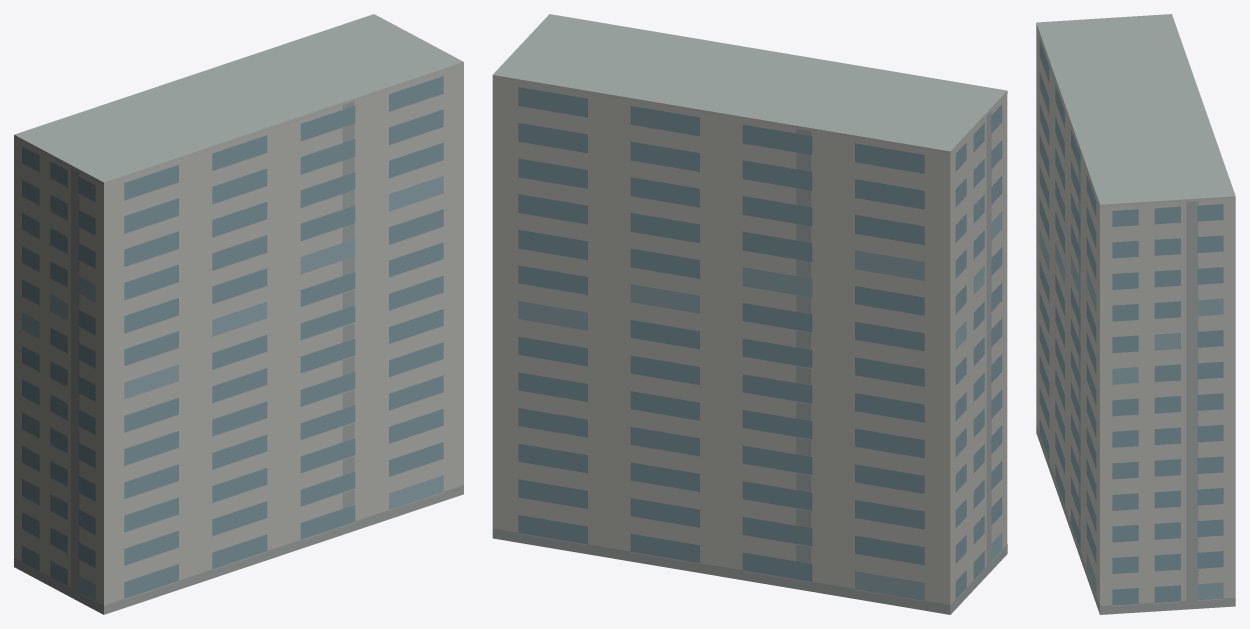
The model's file is residential-4b645a5f-64cd-4c06-9ec5-49ecc8bcebf3.glb.
3 views of the same model, side by side, from view 1: azimuth 30°, elevation 25°; view 2: azimuth 150°, elevation 25°; view 3: azimuth 270°, elevation 25° (orthographic). The views are drawn at different scales.
Visible parts, largest first — view 1: residential-4b645a5f-64cd-4c06-9ec5-49ecc8bcebf3.tmp; view 2: residential-4b645a5f-64cd-4c06-9ec5-49ecc8bcebf3.tmp; view 3: residential-4b645a5f-64cd-4c06-9ec5-49ecc8bcebf3.tmp.
Part boxes in pixels (x1,y1,x2,y2): residential-4b645a5f-64cd-4c06-9ec5-49ecc8bcebf3.tmp: [14, 14, 463, 614]; residential-4b645a5f-64cd-4c06-9ec5-49ecc8bcebf3.tmp: [492, 14, 1007, 614]; residential-4b645a5f-64cd-4c06-9ec5-49ecc8bcebf3.tmp: [1036, 14, 1235, 614].
Size of the model in its own units: 37.89 by 38 by 16.75.
